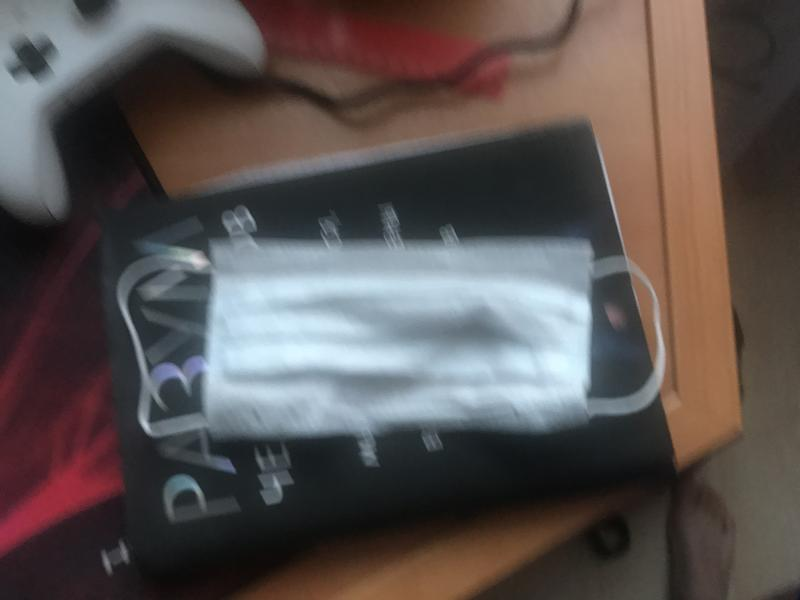medical_mask: (117, 258, 667, 435)
